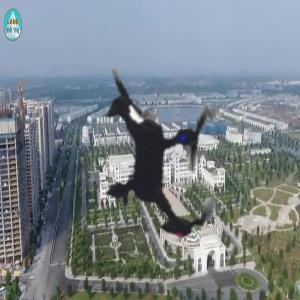drone: (27, 23, 298, 294)
